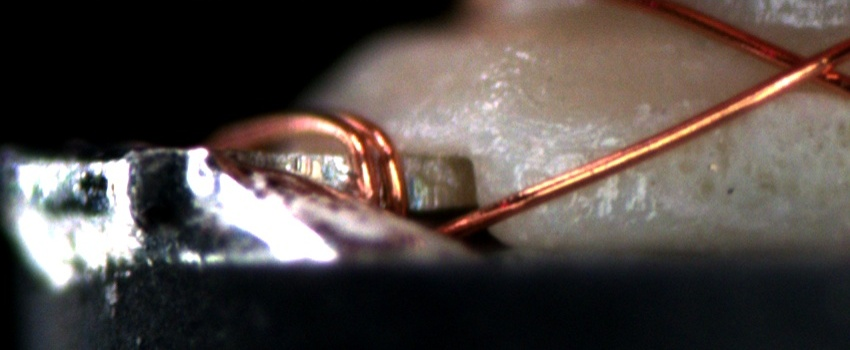CL: (753, 35, 845, 94)
DL: (689, 82, 850, 113), (527, 128, 636, 166)
TE: (197, 99, 415, 219)
